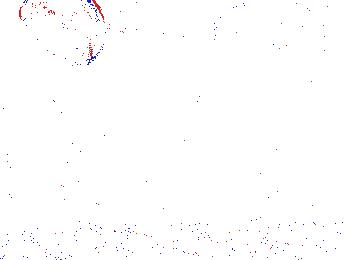moon jellyfish: (17, 1, 106, 69), (261, 2, 327, 66), (52, 27, 138, 69), (107, 1, 179, 44), (211, 3, 288, 42)
